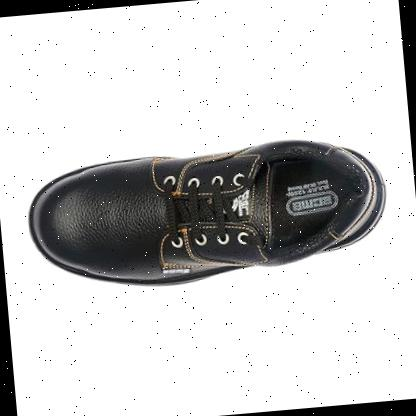bota: (19, 126, 397, 302)
